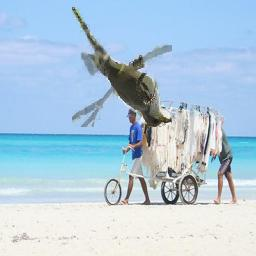Cuckoo: (72, 7, 172, 127)
